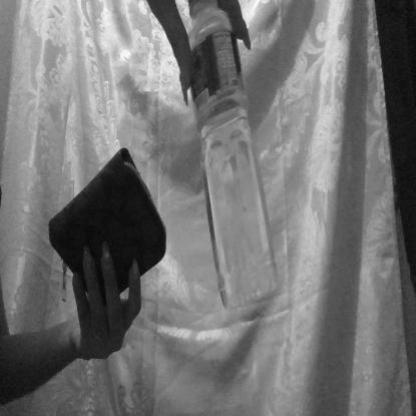Plastic Bottle: (182, 4, 282, 316)
